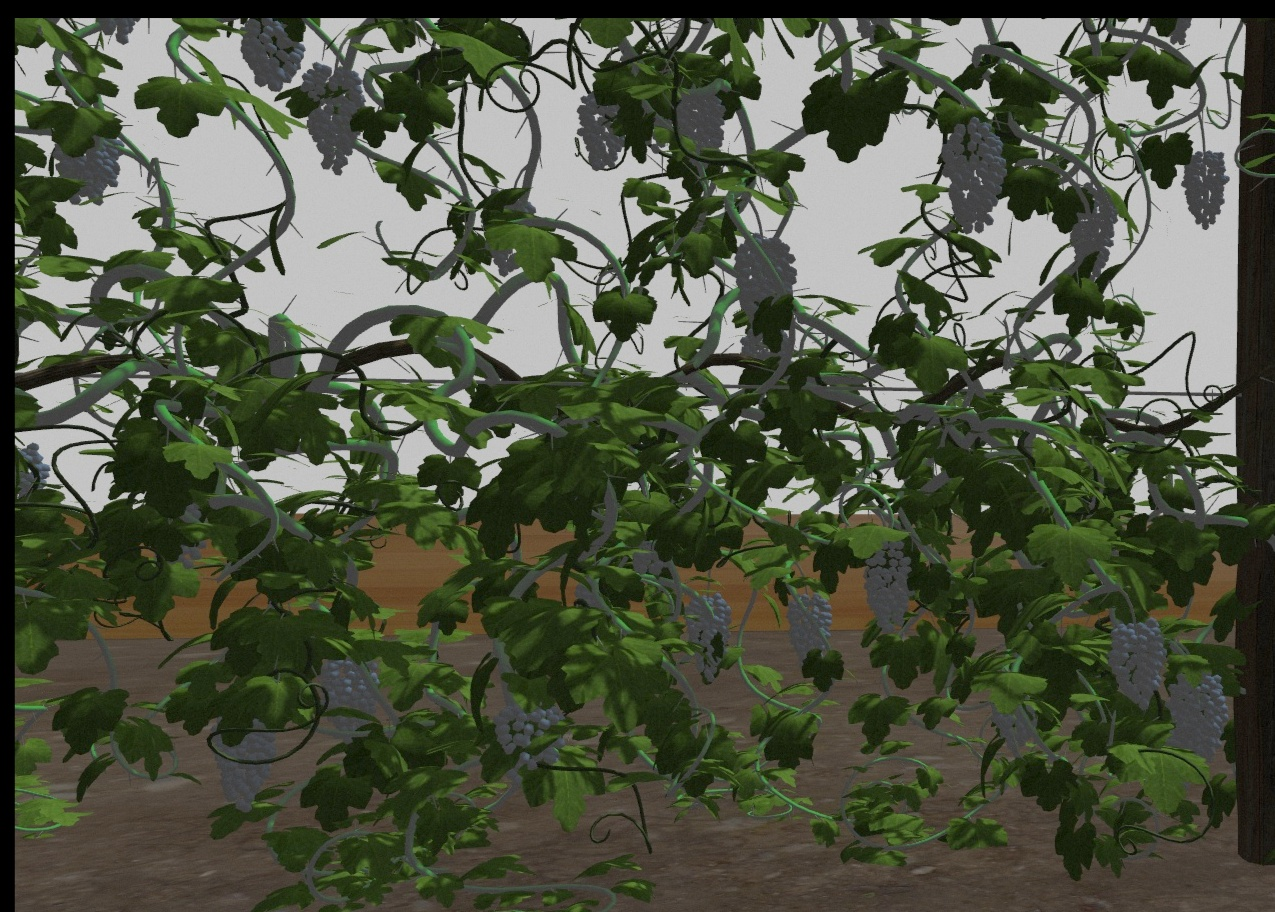grape: (297, 66, 365, 175), (940, 120, 1005, 232), (207, 724, 276, 810), (52, 122, 122, 206), (733, 231, 798, 320), (312, 657, 381, 738), (1165, 673, 1228, 761), (1105, 619, 1165, 709), (860, 547, 915, 638), (234, 20, 300, 93), (492, 703, 561, 772), (1176, 146, 1230, 233), (1064, 182, 1118, 268), (685, 592, 731, 684), (575, 87, 622, 171), (670, 89, 725, 155), (786, 589, 834, 661), (988, 699, 1034, 756)
